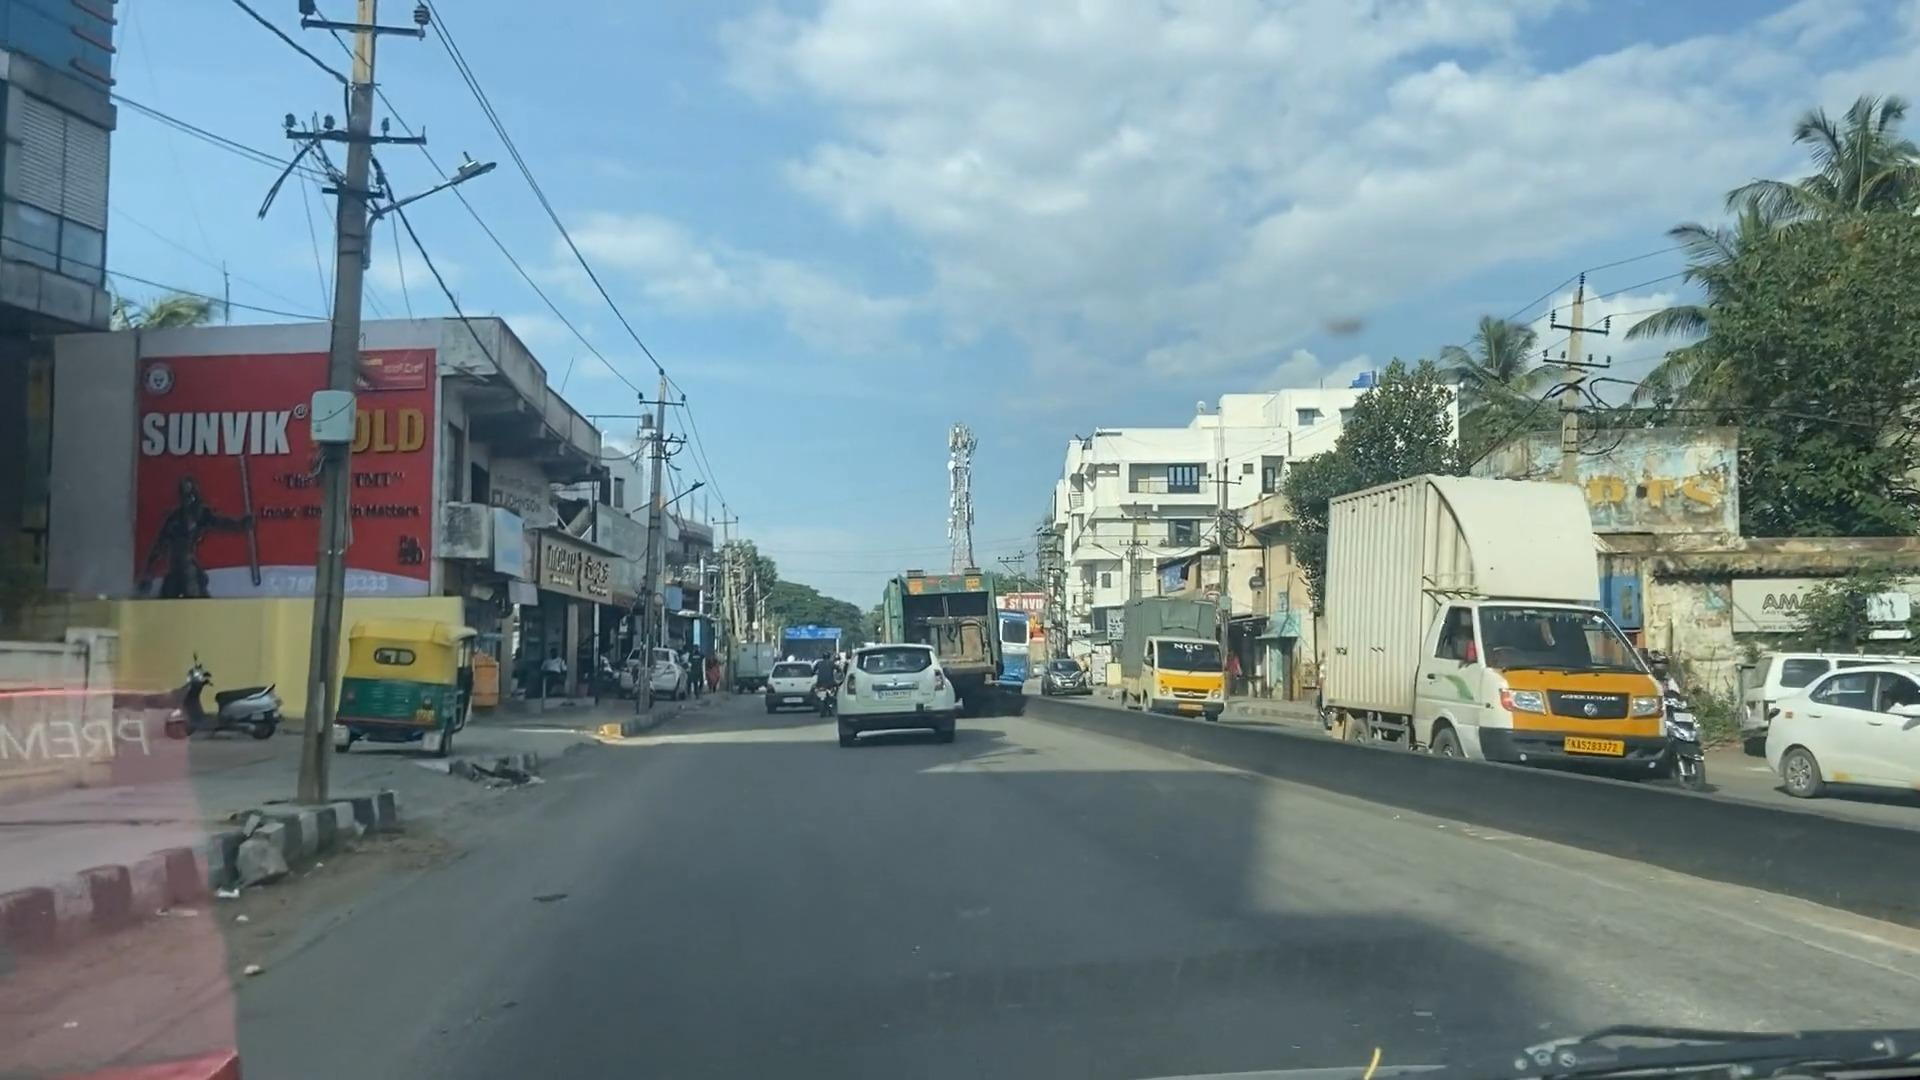LMV: (340, 611, 469, 746), (832, 645, 960, 749)
